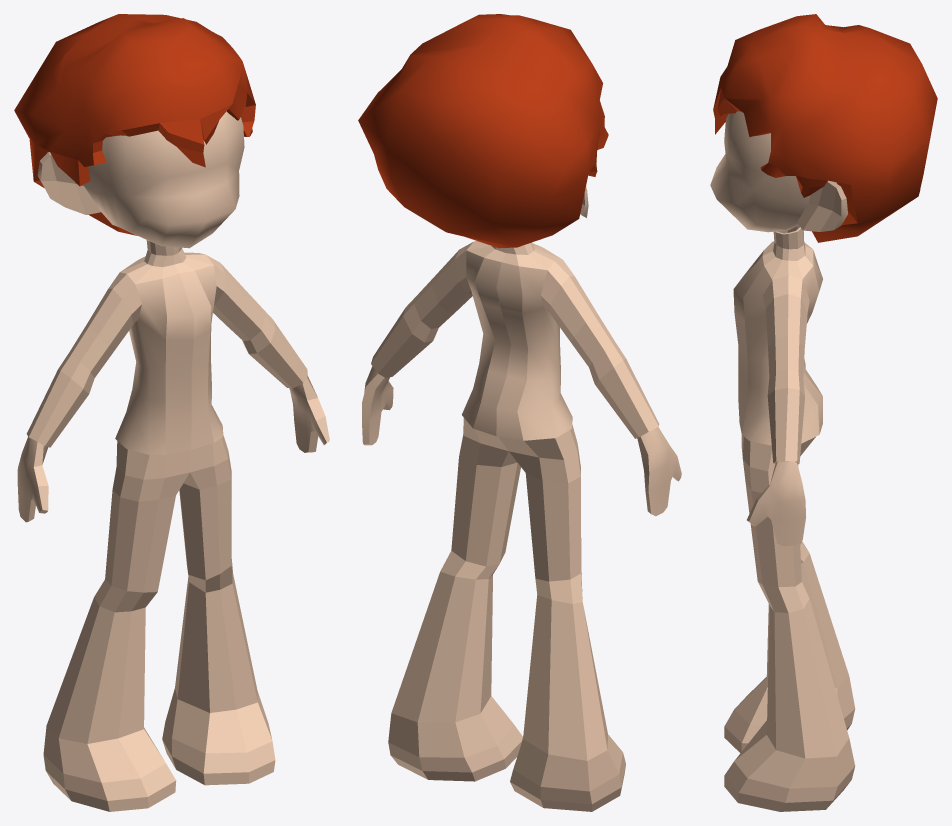
Rendered from oliver.fbx.
3 renders of one model, left to right at view 1: azimuth 30°, elevation 25°; view 2: azimuth 150°, elevation 25°; view 3: azimuth 270°, elevation 25°, orthographic. The views are drawn at different scales.
Visible parts, largest first — view 1: cuerpo, pelo; view 2: cuerpo, pelo; view 3: cuerpo, pelo.
Part boxes in pixels (x1=…): cuerpo: x1=17, y1=111, x2=329, y2=811; pelo: x1=14, y1=14, x2=255, y2=235; cuerpo: x1=362, y1=185, x2=681, y2=811; pelo: x1=358, y1=14, x2=608, y2=248; cuerpo: x1=710, y1=111, x2=855, y2=811; pelo: x1=713, y1=14, x2=937, y2=242.
Bounding box in the file's own units: 62.09 × 151 × 42.14.
